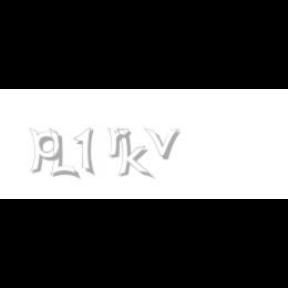1: (73, 128, 95, 176)
L: (49, 128, 77, 180)
k: (116, 128, 154, 180)
p: (30, 128, 66, 174)
r: (108, 128, 134, 158)
v: (144, 128, 184, 160)
